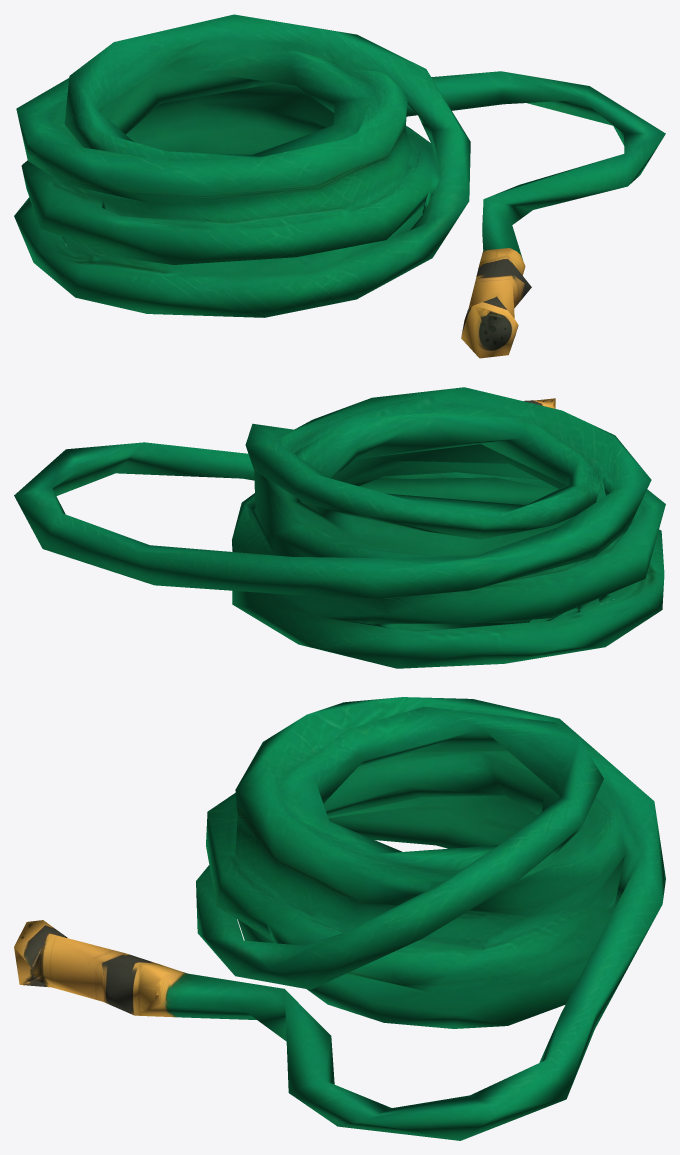
File: hortum.glb
The picture shows the model from 3 angles, top to bottom: view 1: azimuth 30°, elevation 25°; view 2: azimuth 150°, elevation 25°; view 3: azimuth 270°, elevation 25°; orthographic projection. The views are drawn at different scales.
Parts seen in each view (by area): view 1: tripo_node_17881092-662b-47f0-a588-e3e88bd67108; view 2: tripo_node_17881092-662b-47f0-a588-e3e88bd67108; view 3: tripo_node_17881092-662b-47f0-a588-e3e88bd67108.
Boxes of the visible parts, left/top/right/bottom form: tripo_node_17881092-662b-47f0-a588-e3e88bd67108: left=14, top=14, right=665, bottom=358; tripo_node_17881092-662b-47f0-a588-e3e88bd67108: left=14, top=387, right=665, bottom=668; tripo_node_17881092-662b-47f0-a588-e3e88bd67108: left=14, top=697, right=665, bottom=1140.
Size of the model in its own units: 0.976 by 0.2503 by 0.8396.
Materials: 1 (1 with a texture image).
